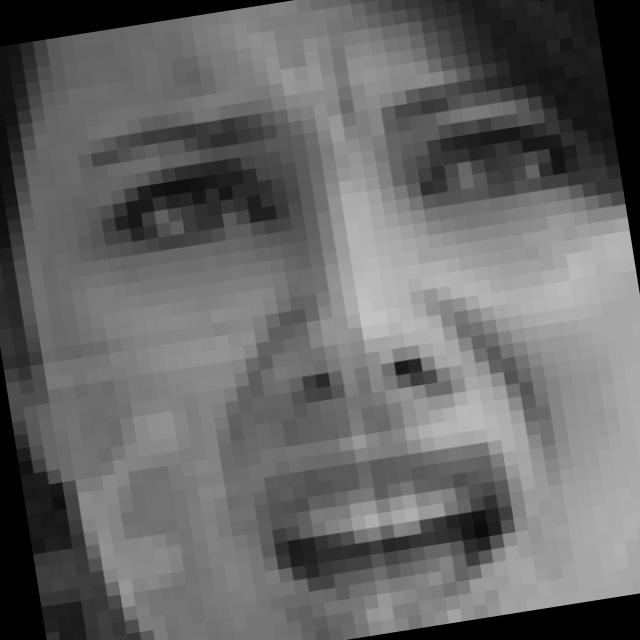disgust: (85, 57, 640, 640)
